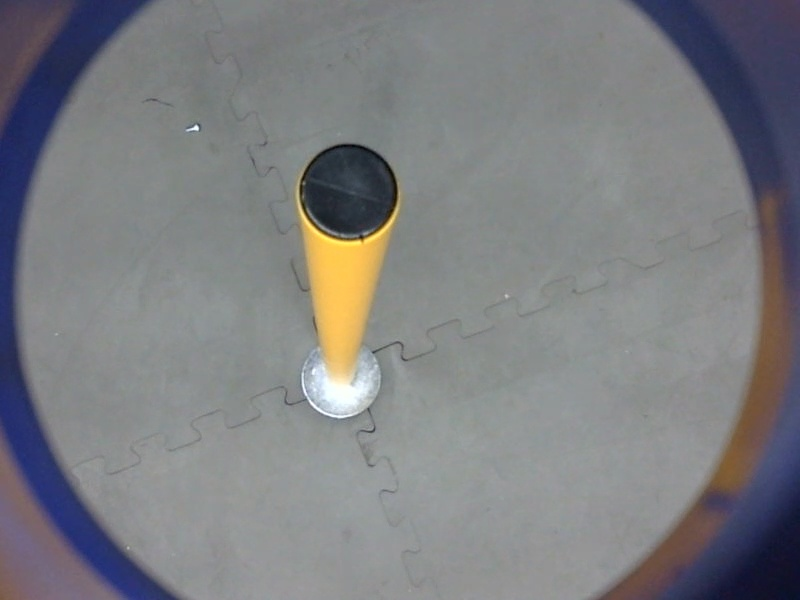tip: (287, 137, 407, 251)
